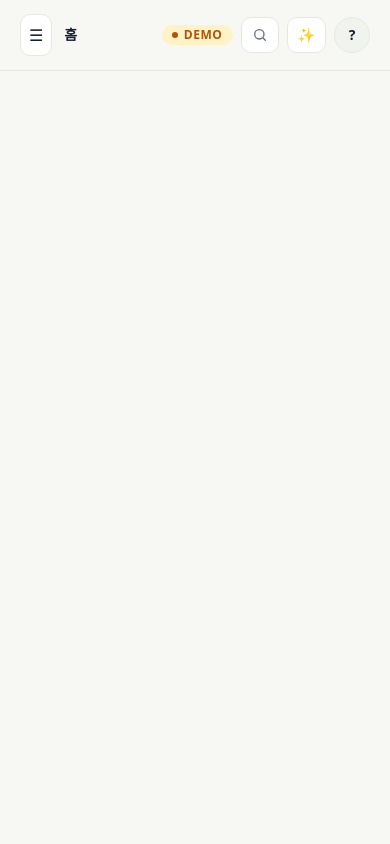
Test: grouped sidebar navigation (#247) › tells assistive tech whether the mobile sidebar is open and which element it controls (#485)
Click the button named "사이드바 열기/닫기" at (36, 35), box [20,14,52,56]
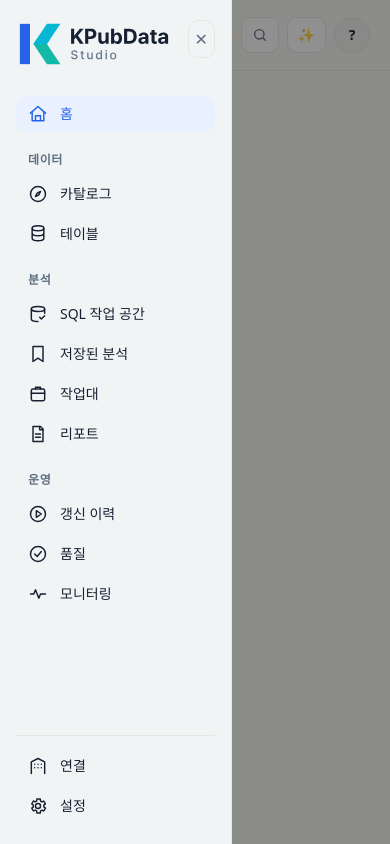
Expected: the button named "사이드바 열기/닫기" is expanded, [20,14,52,56]
